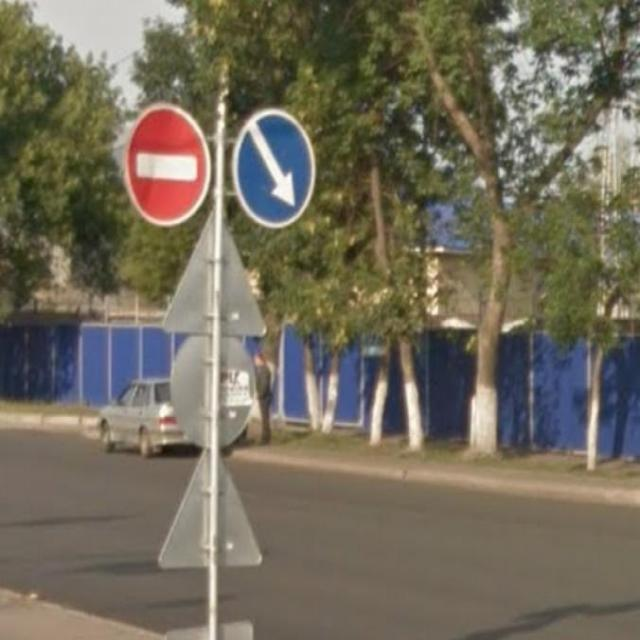traffic_sign: (116, 98, 217, 233)
